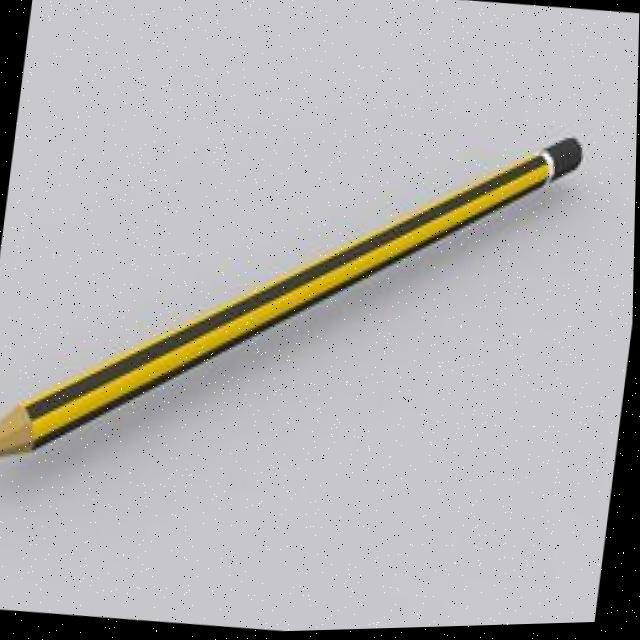pencil: (0, 82, 582, 515)
